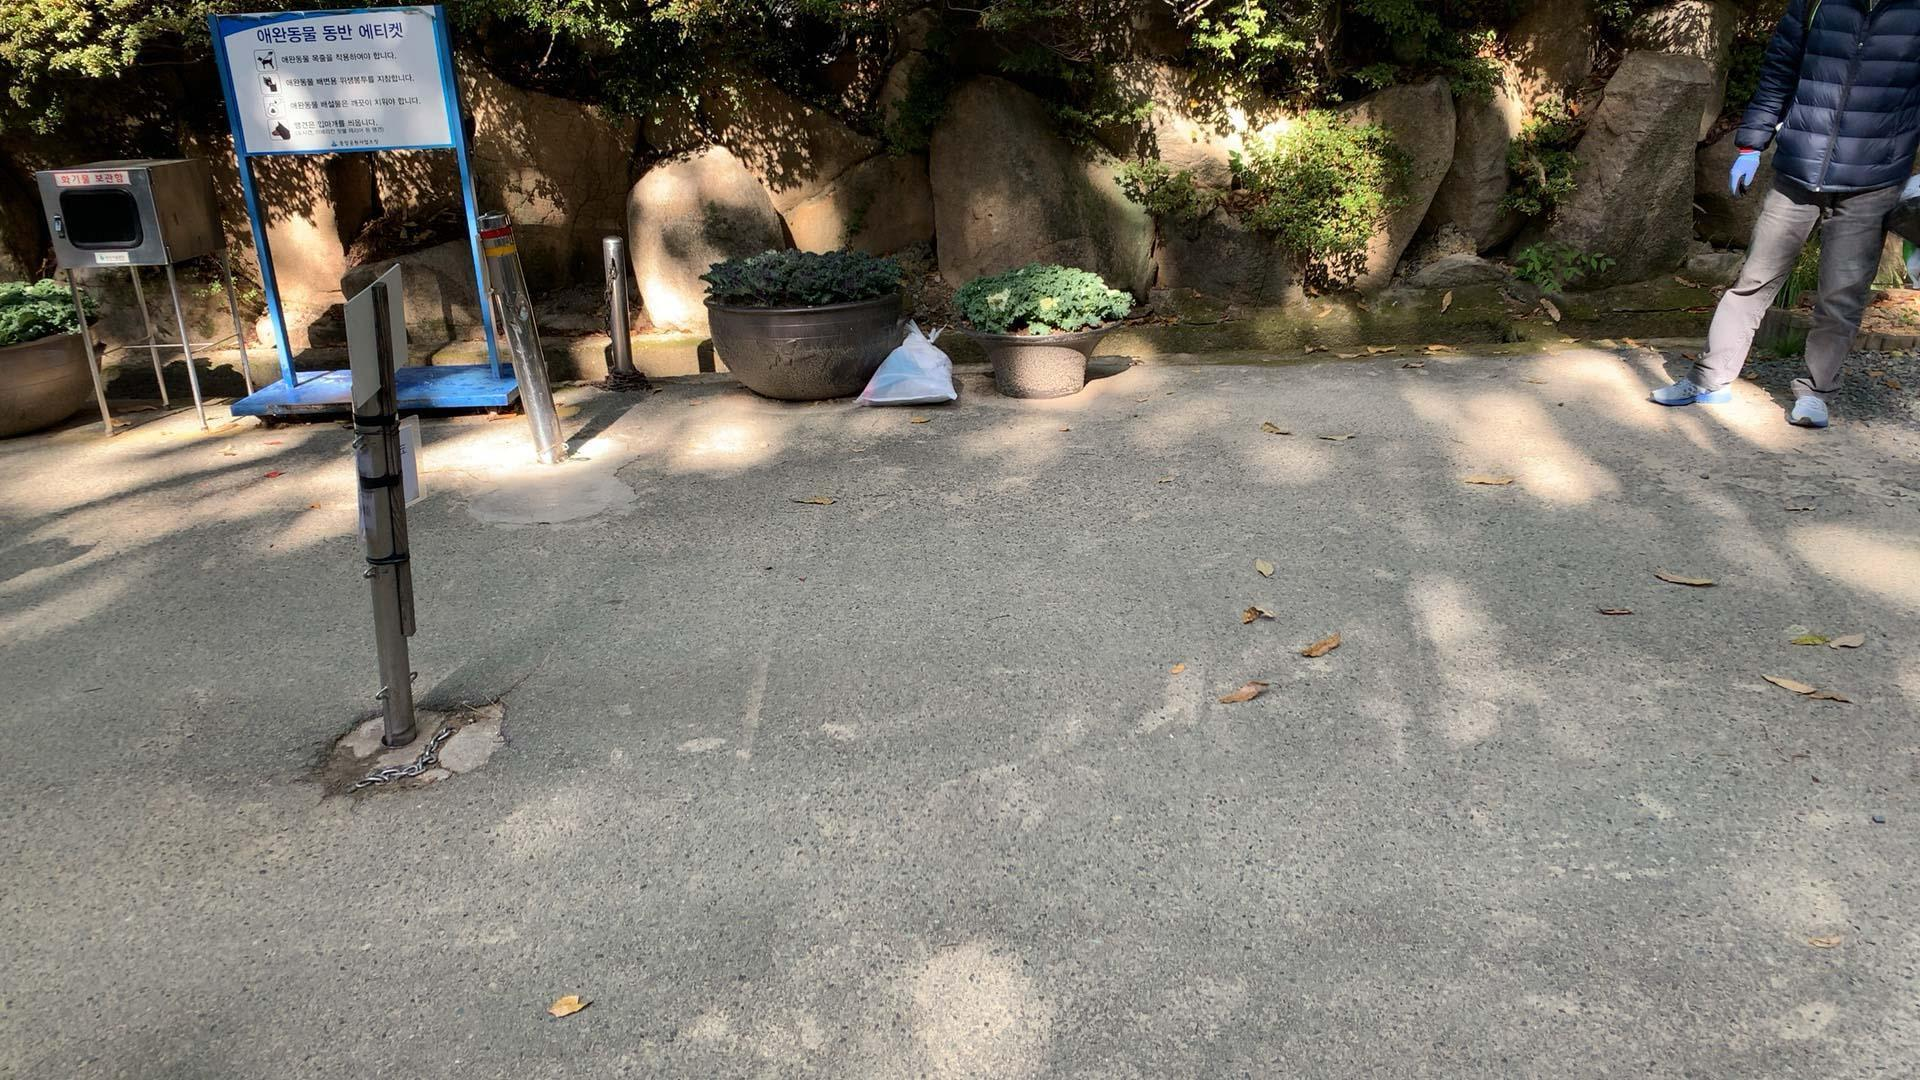white_bag: (849, 314, 965, 411)
